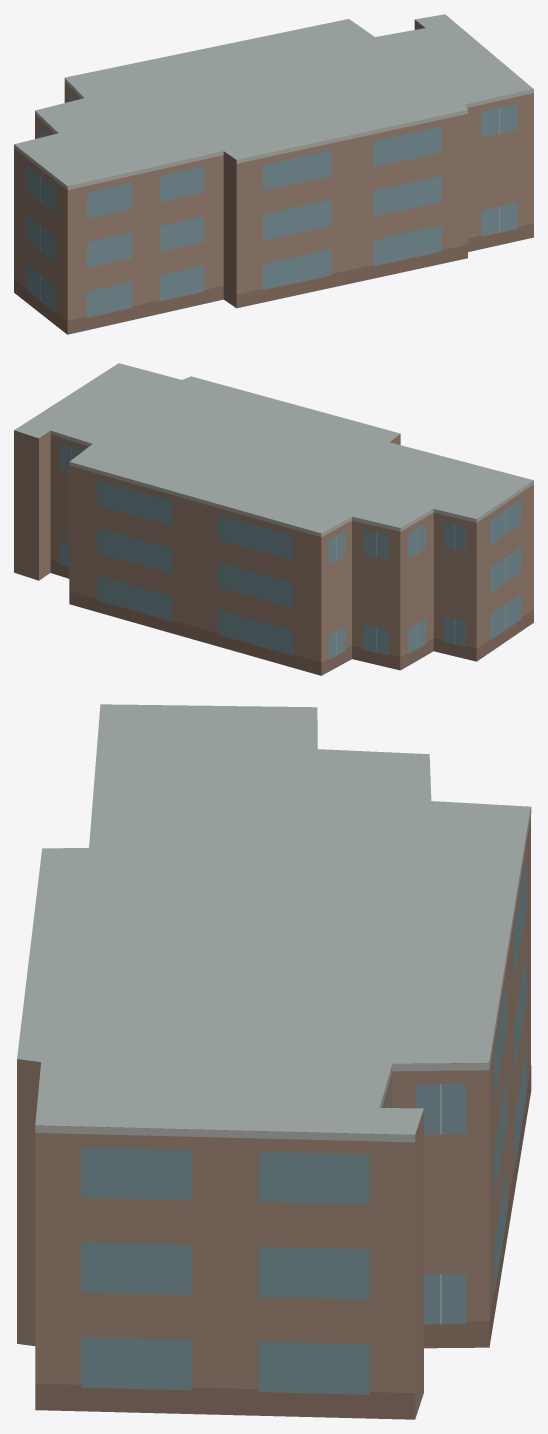
Rendered from survey-upis-33029562.glb.
The picture shows the model from 3 angles, top to bottom: view 1: azimuth 30°, elevation 25°; view 2: azimuth 150°, elevation 25°; view 3: azimuth 270°, elevation 25°; orthographic projection. The views are drawn at different scales.
Parts seen in each view (by area): view 1: survey-upis-33029562.tmp; view 2: survey-upis-33029562.tmp; view 3: survey-upis-33029562.tmp.
Part boxes in pixels (box(x1,y1,x2,y2)): survey-upis-33029562.tmp: box(14, 14, 533, 334); survey-upis-33029562.tmp: box(14, 363, 533, 675); survey-upis-33029562.tmp: box(17, 704, 531, 1419).
Bounding box in the file's own units: 29.67 × 9.15 × 14.98.
